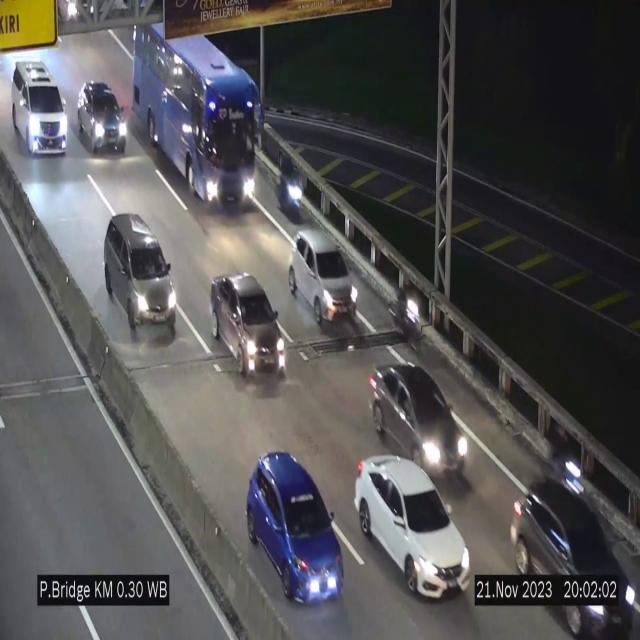Bus: (130, 26, 259, 211)
Car: (355, 455, 470, 597), (247, 451, 344, 603), (368, 361, 468, 474), (206, 265, 288, 383), (102, 211, 176, 336), (287, 228, 359, 330), (12, 65, 68, 154), (74, 78, 128, 158)
Motorcycle: (547, 422, 585, 491), (391, 274, 422, 354), (276, 150, 304, 223)
